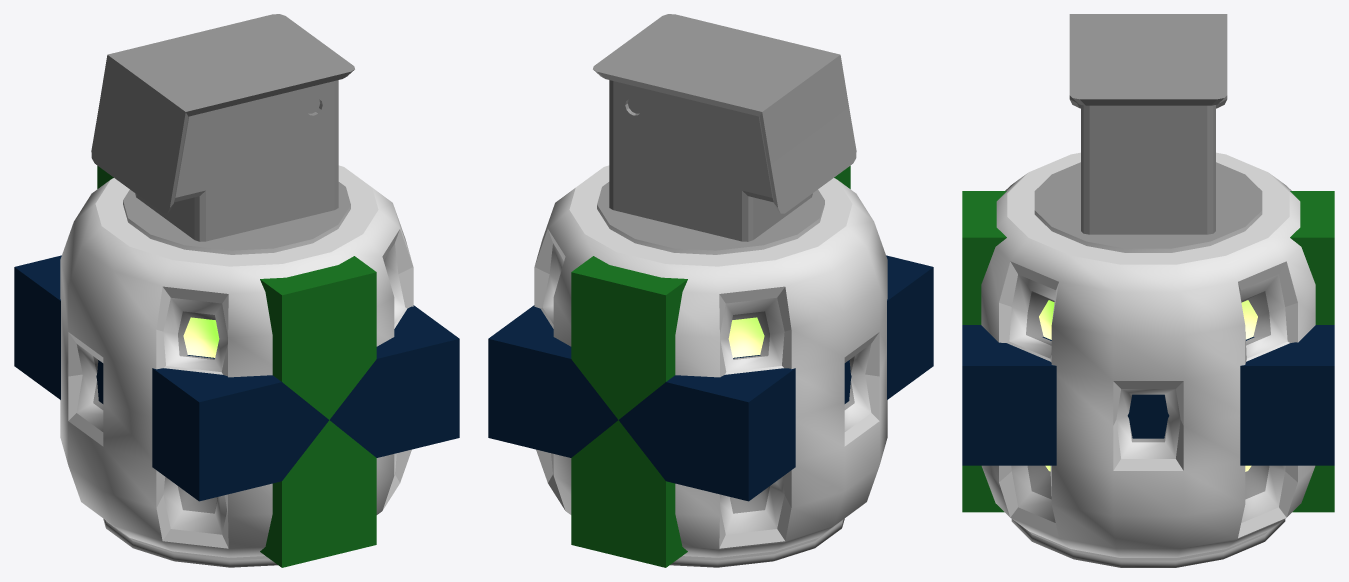
Rendered from Weapon_Heal.fbx.
The picture shows the model from 3 angles, left to right: view 1: azimuth 30°, elevation 25°; view 2: azimuth 150°, elevation 25°; view 3: azimuth 270°, elevation 25°; orthographic projection.
Visible parts, largest first — view 1: GrenadeBody; view 2: GrenadeBody; view 3: GrenadeBody.
Boxes of the visible parts, x1=… form: GrenadeBody: x1=14, y1=14, x2=459, y2=567; GrenadeBody: x1=488, y1=14, x2=933, y2=567; GrenadeBody: x1=962, y1=14, x2=1334, y2=567.
Size of the model in its own units: 2 by 2.12 by 2.91.
